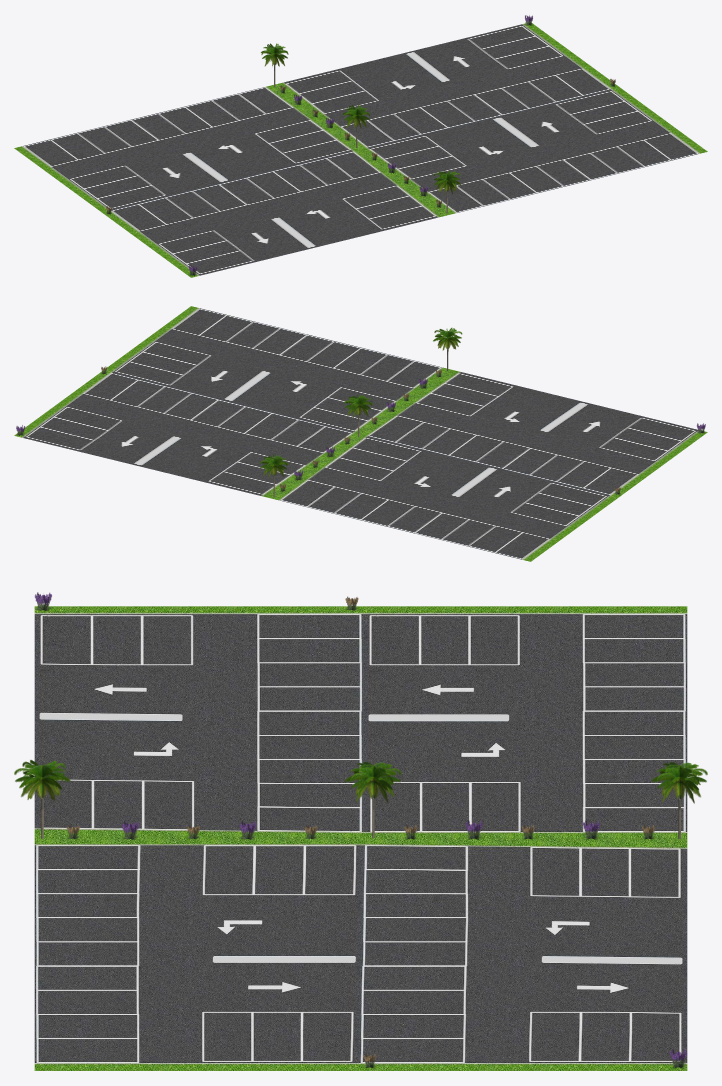
File: parking.glb
3 renders of one model, top to bottom at view 1: azimuth 30°, elevation 25°; view 2: azimuth 150°, elevation 25°; view 3: azimuth 270°, elevation 25°, orthographic. The views are drawn at different scales.
Parts seen in each view (by area): view 1: Parking Area_Parking_Area_Tex_0_Parking_Area_Tex_0, Vegetation_Vegetation_Atlas_0_Vegetation_Atlas_0; view 2: Parking Area_Parking_Area_Tex_0_Parking_Area_Tex_0, Vegetation_Vegetation_Atlas_0_Vegetation_Atlas_0; view 3: Parking Area_Parking_Area_Tex_0_Parking_Area_Tex_0, Vegetation_Vegetation_Atlas_0_Vegetation_Atlas_0.
Part boxes in pixels (x1,y1,x2,y2): Parking Area_Parking_Area_Tex_0_Parking_Area_Tex_0: (14,23,707,277); Vegetation_Vegetation_Atlas_0_Vegetation_Atlas_0: (106,15,615,275); Parking Area_Parking_Area_Tex_0_Parking_Area_Tex_0: (14,306,707,561); Vegetation_Vegetation_Atlas_0_Vegetation_Atlas_0: (16,327,705,497); Parking Area_Parking_Area_Tex_0_Parking_Area_Tex_0: (34,606,687,1070); Vegetation_Vegetation_Atlas_0_Vegetation_Atlas_0: (14,592,707,1068).
Bounding box in the file's own units: 0.9788 × 0.0738 × 0.6173.
Materials: 2 (2 with a texture image).
